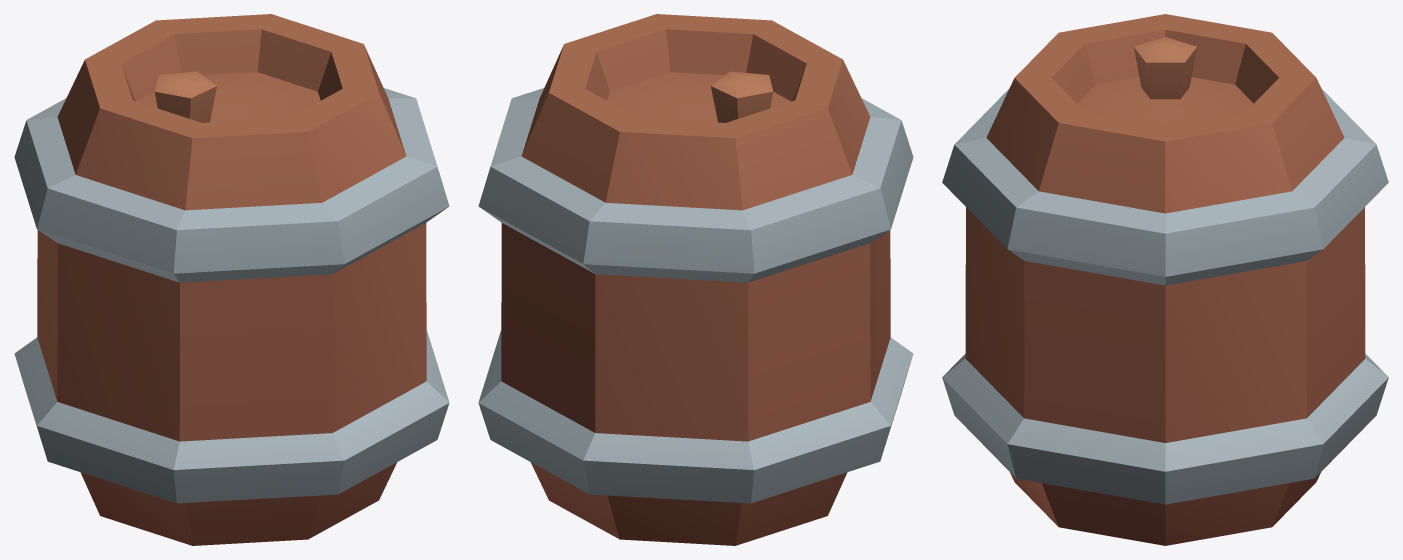
File: barrel_small.obj
3 views of the same model, side by side, from view 1: azimuth 30°, elevation 25°; view 2: azimuth 150°, elevation 25°; view 3: azimuth 270°, elevation 25° (orthographic).
Visible parts, largest first — view 1: barrel_small; view 2: barrel_small; view 3: barrel_small.
Boxes of the visible parts, x1,y1,x2,y2 form: barrel_small: [14, 14, 449, 545]; barrel_small: [478, 14, 913, 545]; barrel_small: [942, 14, 1388, 545].
Size of the model in its own units: 1 by 1.02 by 1.
Materials: 1 (1 with a texture image).
